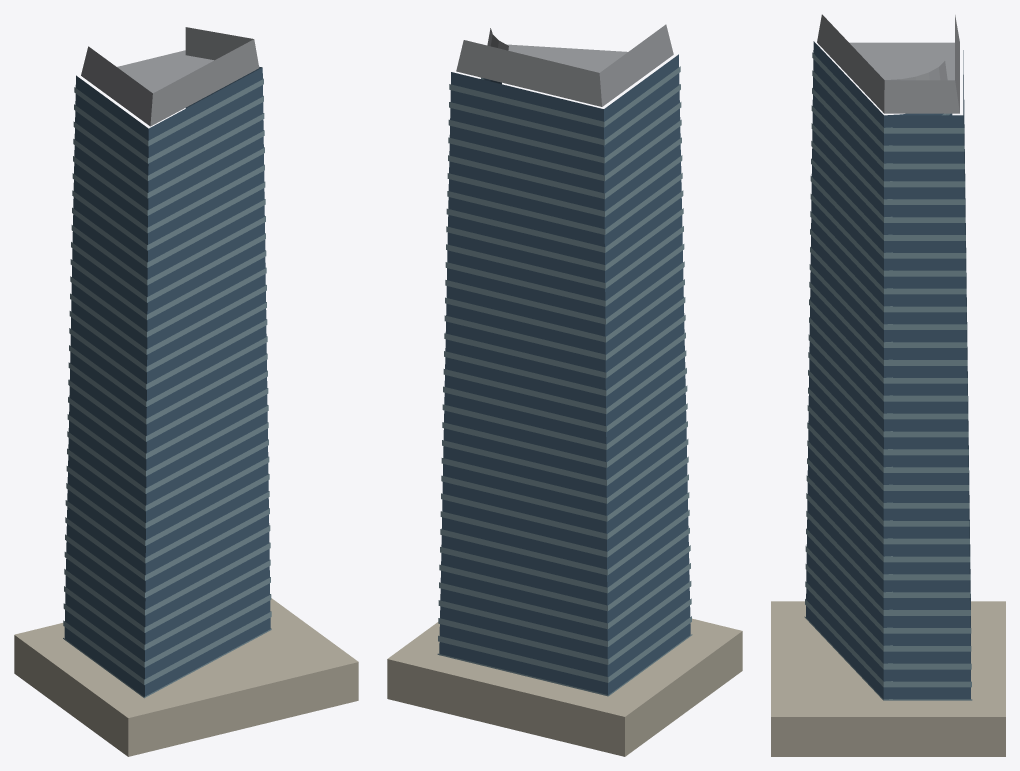
The model's file is office_tower_generic_c.glb.
The picture shows the model from 3 angles, left to right: view 1: azimuth 30°, elevation 25°; view 2: azimuth 150°, elevation 25°; view 3: azimuth 270°, elevation 25°; orthographic projection. The views are drawn at different scales.
Parts seen in each view (by area): view 1: office_tower_generic_c; view 2: office_tower_generic_c; view 3: office_tower_generic_c.
Part boxes in pixels (x1=…): office_tower_generic_c: x1=14, y1=27, x2=358, y2=756; office_tower_generic_c: x1=387, y1=24, x2=742, y2=756; office_tower_generic_c: x1=771, y1=14, x2=1005, y2=756.
Size of the model in its own units: 56 by 147 by 48.
